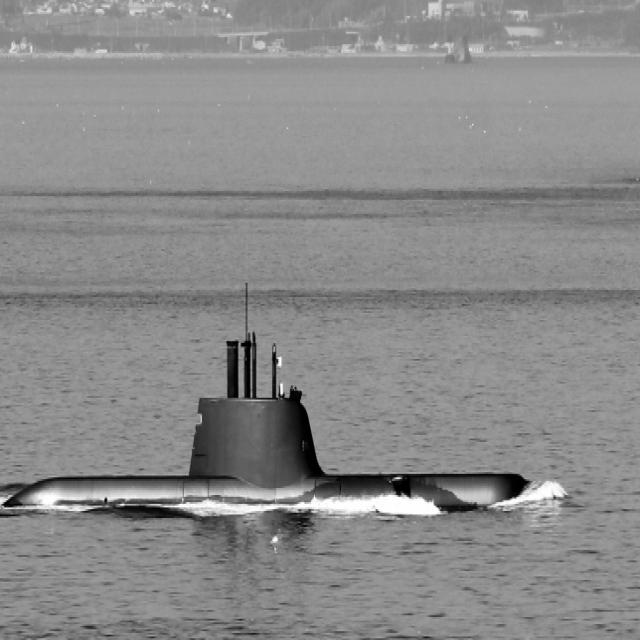submarine: (1, 397, 539, 514)
